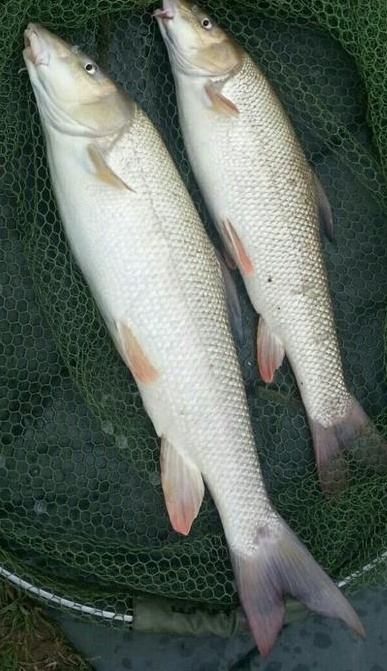Barbus barbus: (20, 20, 367, 655)
